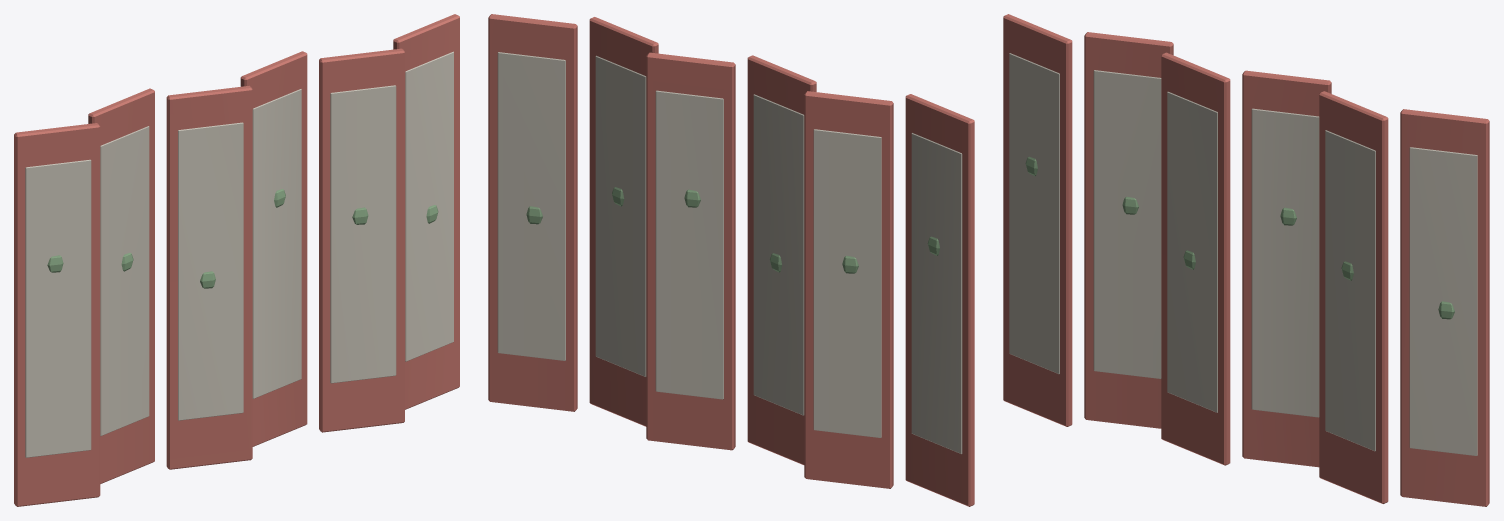
The model's file is furn_folding_screen__red.glb.
3 views of the same model, side by side, from view 1: azimuth 30°, elevation 25°; view 2: azimuth 150°, elevation 25°; view 3: azimuth 330°, elevation 25° (orthographic). The views are drawn at different scales.
Size of the model in its own units: 1.8 by 1.4 by 0.1803.
